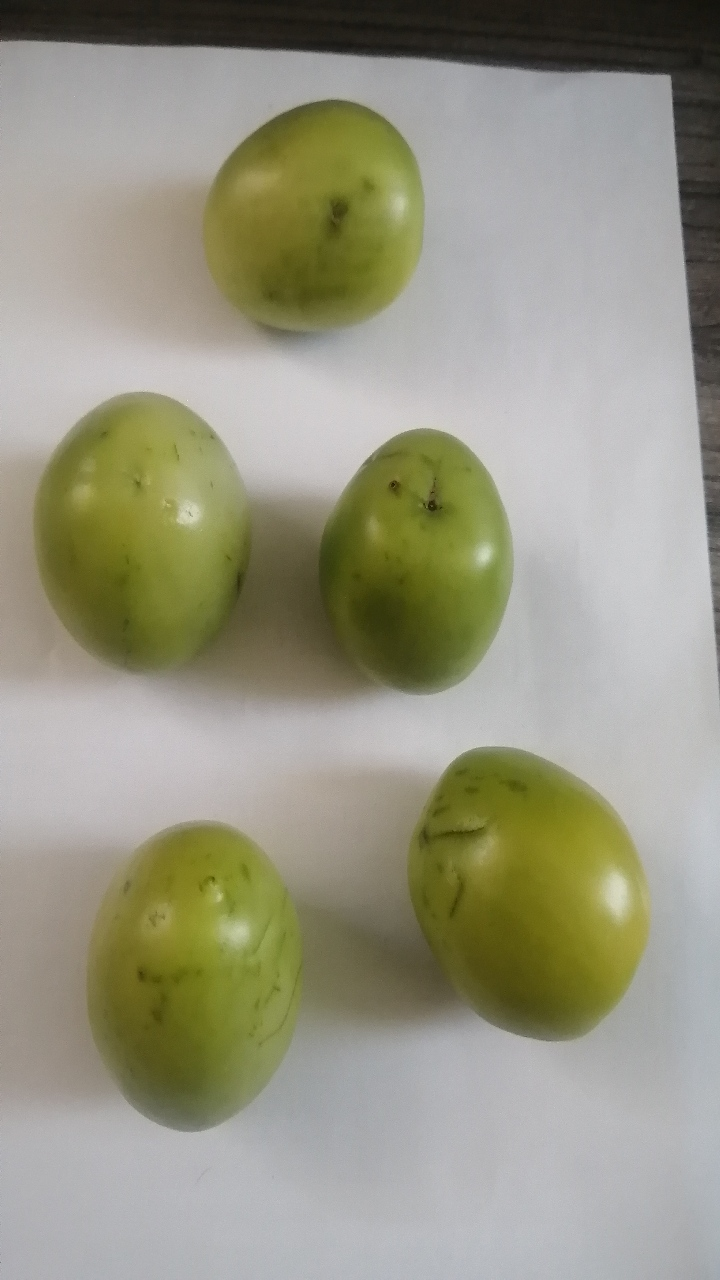tomateVerde: (384, 722, 658, 1071), (64, 795, 324, 1159), (26, 372, 284, 691), (175, 66, 434, 359), (294, 405, 512, 715)
